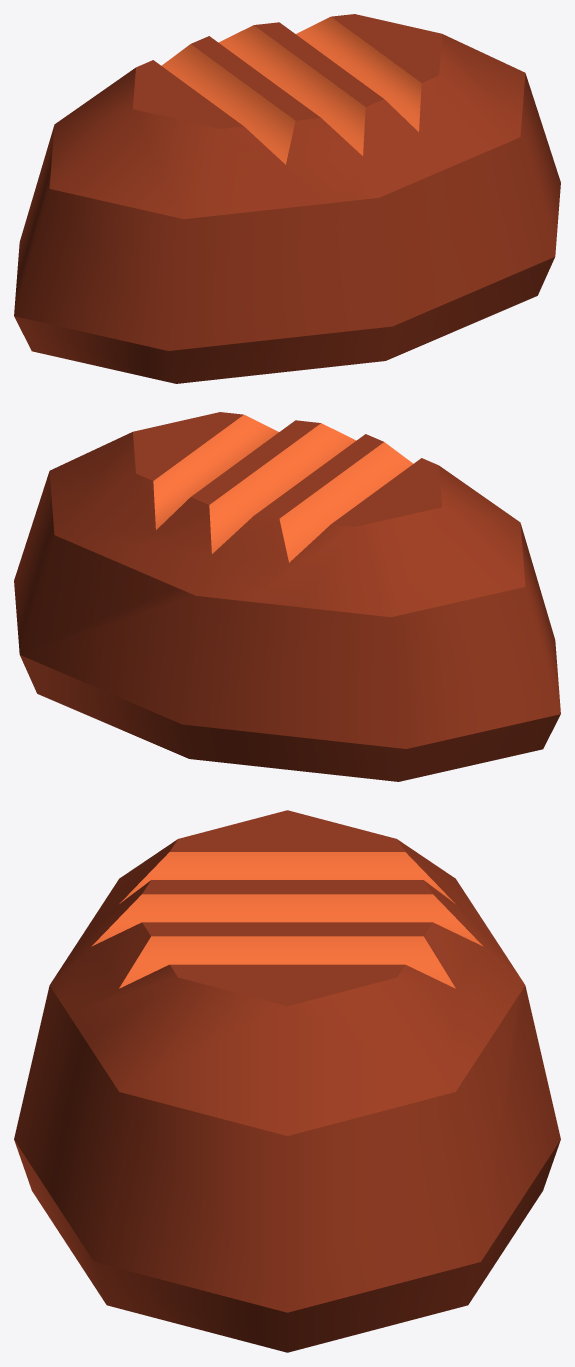
Rendered from loaf.obj.
3 renders of one model, top to bottom at view 1: azimuth 30°, elevation 25°; view 2: azimuth 150°, elevation 25°; view 3: azimuth 270°, elevation 25°, orthographic. The views are drawn at different scales.
Visible parts, largest first — view 1: loafRound; view 2: loafRound; view 3: loafRound.
Part boxes in pixels (x1,y1,x2,y2): loafRound: (14,14,560,383); loafRound: (14,412,560,781); loafRound: (14,810,560,1352).
Size of the model in its own units: 1 by 0.3799 by 0.6667.
